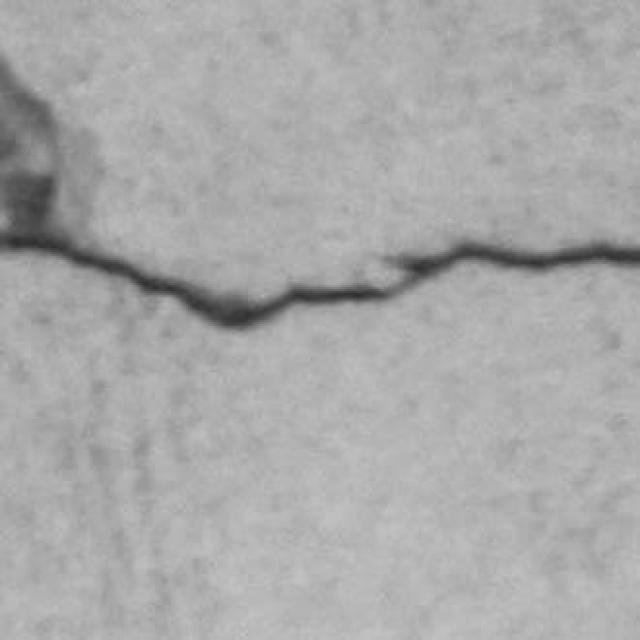crack: (0, 235, 639, 329), (0, 58, 60, 233)
